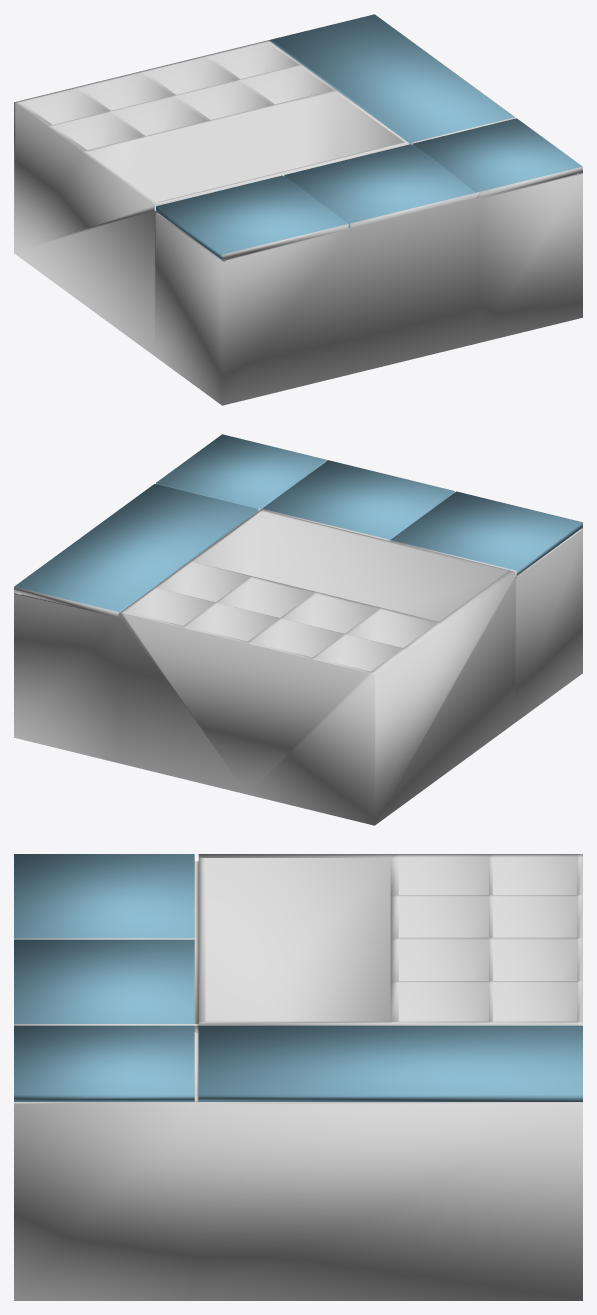
3 views of the same model, one above another, from view 1: azimuth 30°, elevation 25°; view 2: azimuth 150°, elevation 25°; view 3: azimuth 270°, elevation 25° (orthographic). The views are drawn at different scales.
Visible parts, largest first — view 1: Cube; view 2: Cube; view 3: Cube.
Boxes of the visible parts, bbox=[...] form: Cube: bbox=[14, 14, 582, 405]; Cube: bbox=[14, 434, 582, 825]; Cube: bbox=[14, 854, 582, 1300].
Bounding box in the file's own units: 150 × 60 × 150.
